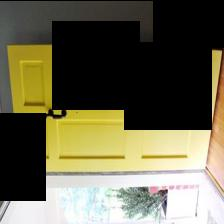yellow: (9, 44, 222, 171)
